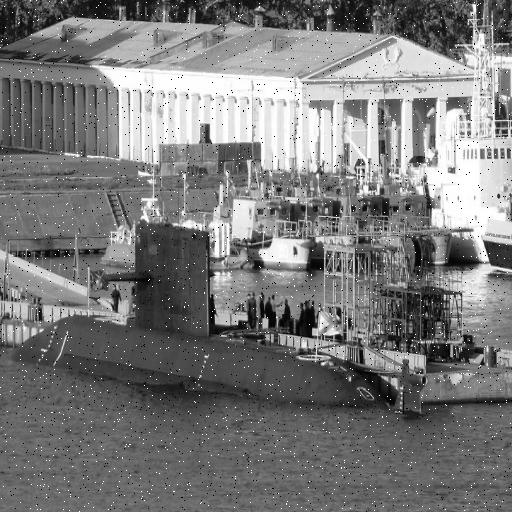submarine: (1, 214, 428, 416)
